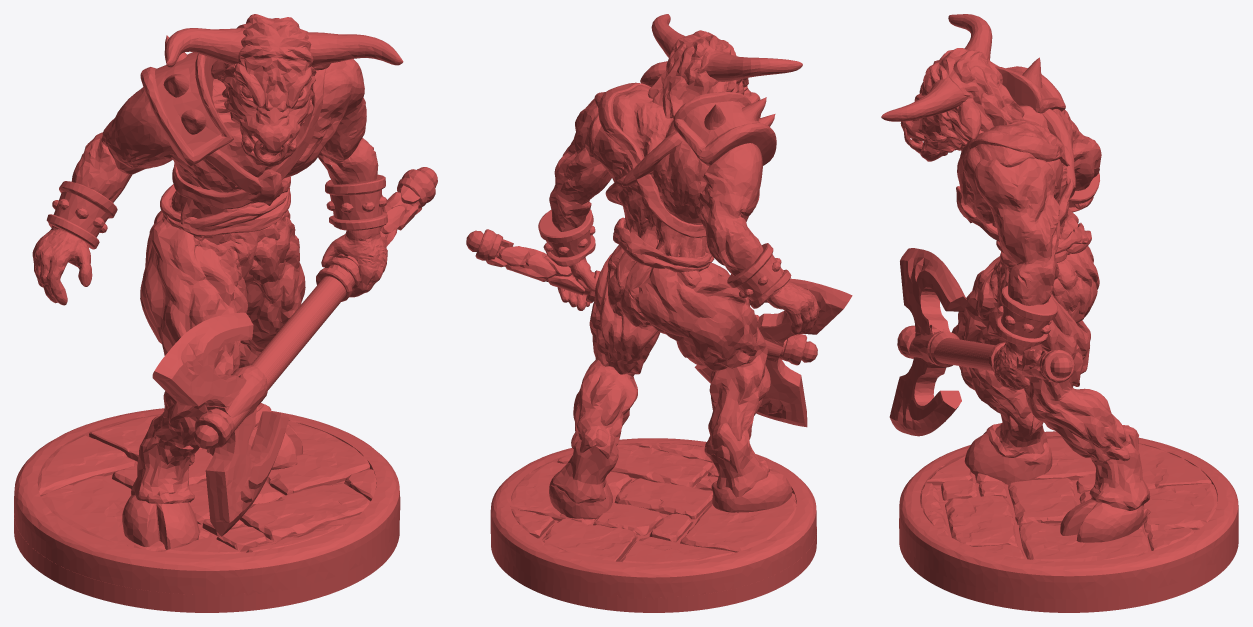
Rendered from minotaur.glb.
3 views of the same model, side by side, from view 1: azimuth 30°, elevation 25°; view 2: azimuth 150°, elevation 25°; view 3: azimuth 270°, elevation 25° (orthographic). The views are drawn at different scales.
Parts seen in each view (by area): view 1: minotaur; view 2: minotaur; view 3: minotaur.
Part boxes in pixels (x1,y1,x2,y2): minotaur: (14,14,437,612); minotaur: (466,14,852,612); minotaur: (881,14,1238,612).
Size of the model in its own units: 35.67 by 46.99 by 31.09.
